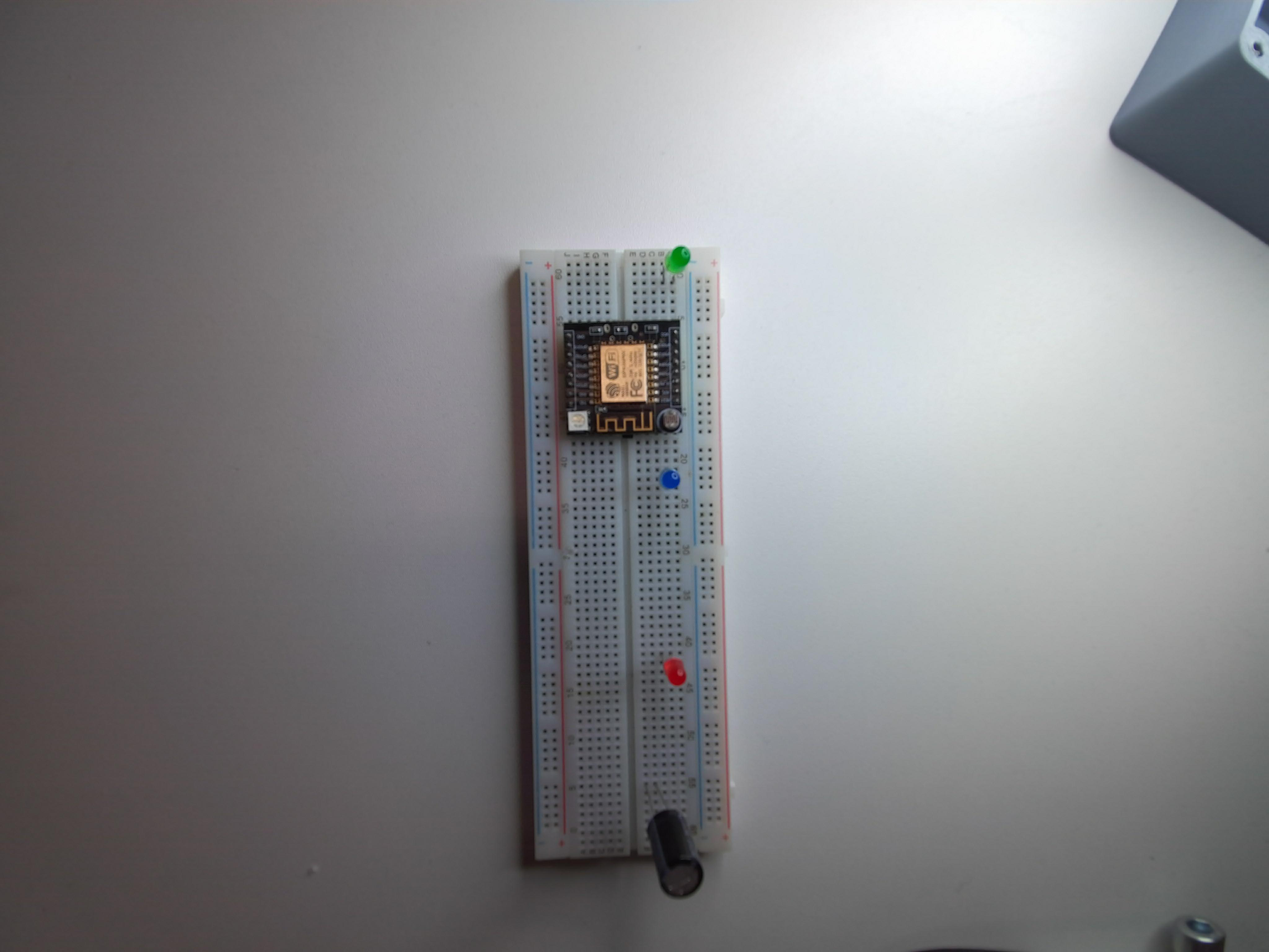base: (507, 241, 731, 884)
blue-led: (654, 461, 686, 491)
capacitor: (641, 803, 709, 902)
esp: (556, 315, 685, 438)
green-led: (658, 244, 693, 281)
red-led: (660, 653, 691, 693)
